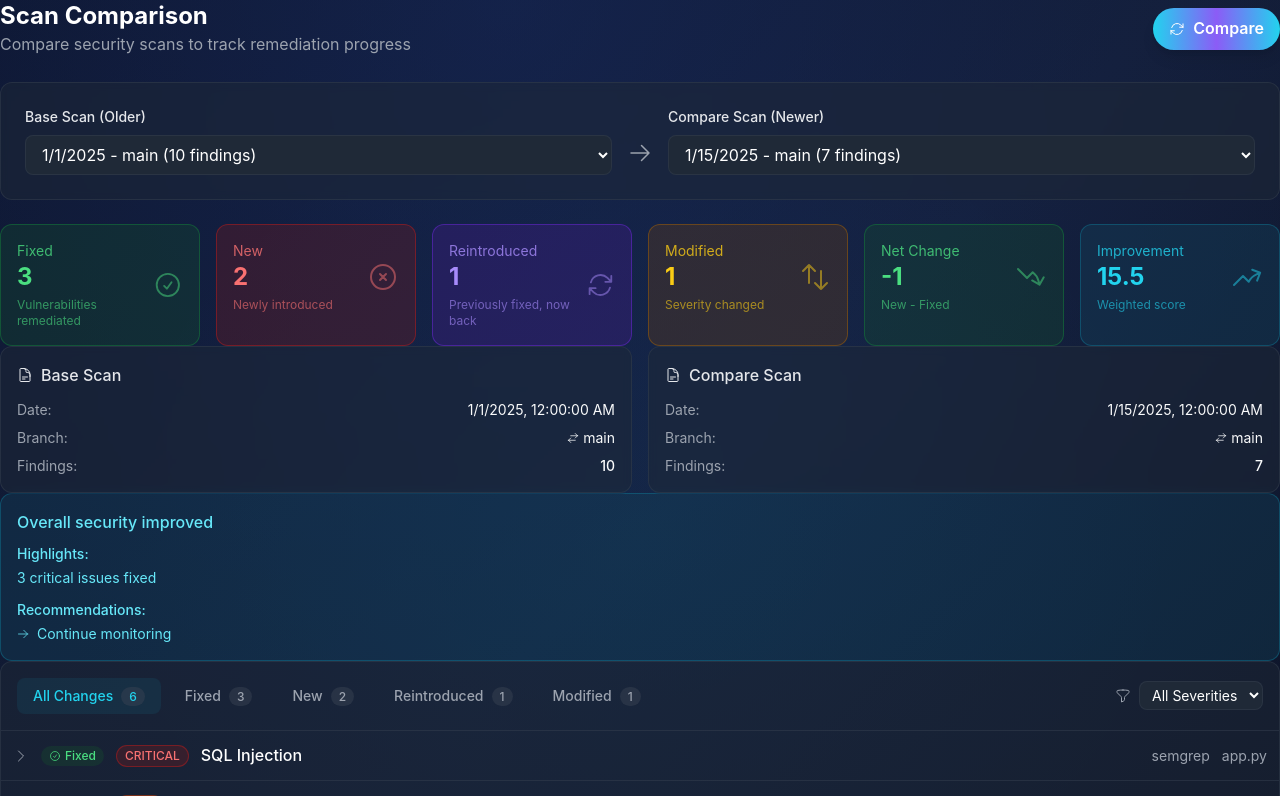
Test: ScanComparison › filters findings by tab
Expected: the text "SQL Injection" is shown, [201,743,302,768]
Click the button "Fixed3": (219, 696) [169,678,268,714]
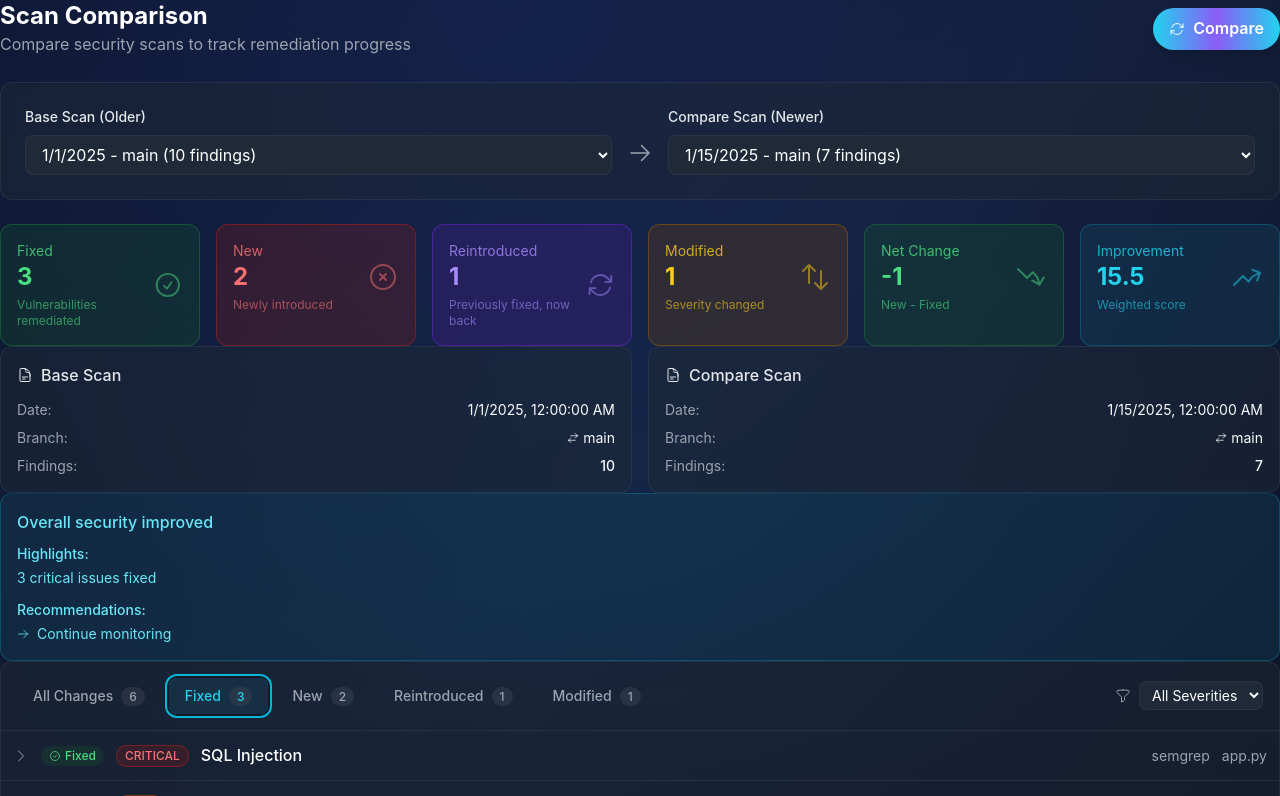
Expected: the text "SQL Injection" is shown, [201,743,302,768]
Expected: the text "CSRF Token Missing" is not shown
Click the button "New2": (323, 696) [276,678,370,714]
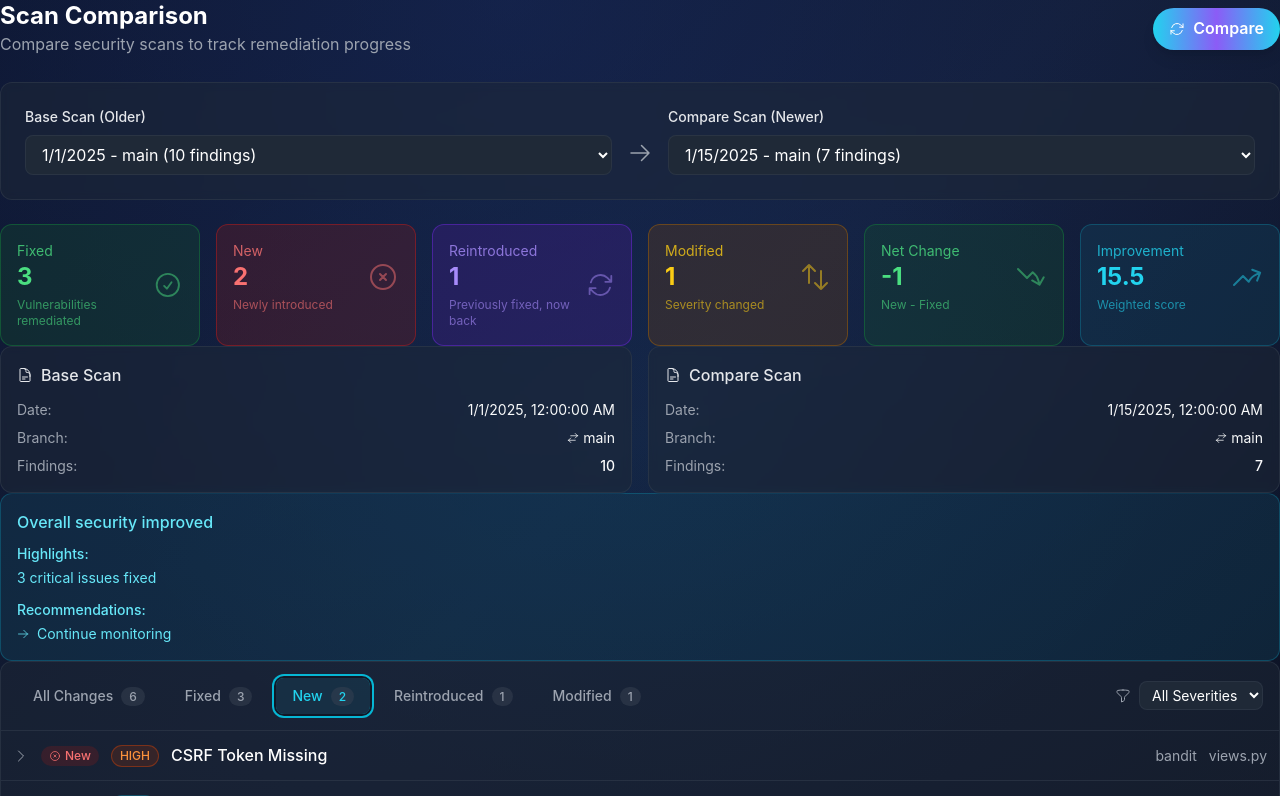
Now the text "CSRF Token Missing" is shown, box [171,743,327,768]
Now the text "SQL Injection" is gone
